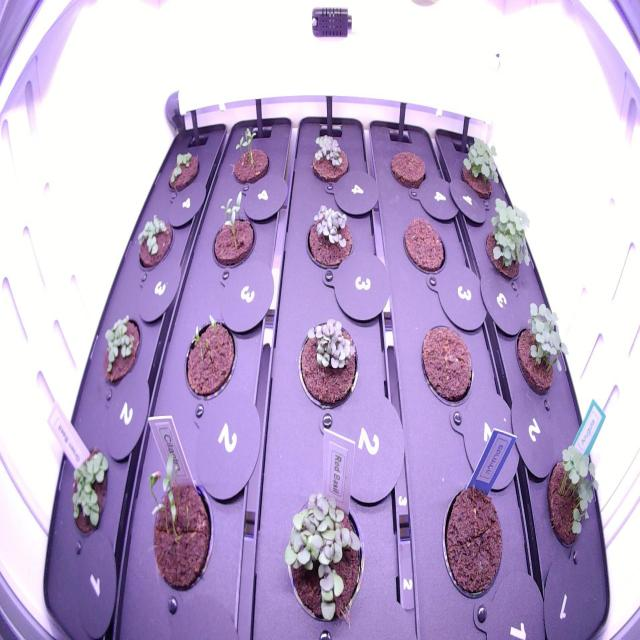germination: (278, 484, 373, 637), (144, 448, 219, 600), (541, 437, 601, 562), (172, 308, 241, 410), (292, 310, 362, 410), (510, 296, 572, 403), (478, 186, 536, 287), (207, 182, 263, 279), (63, 435, 113, 543), (298, 200, 358, 276), (95, 302, 145, 391), (223, 116, 277, 192), (456, 129, 505, 212), (302, 124, 352, 188), (134, 206, 176, 276), (164, 140, 202, 200)
pod: (435, 474, 508, 605), (416, 315, 479, 417), (396, 212, 449, 282), (384, 144, 431, 196)
